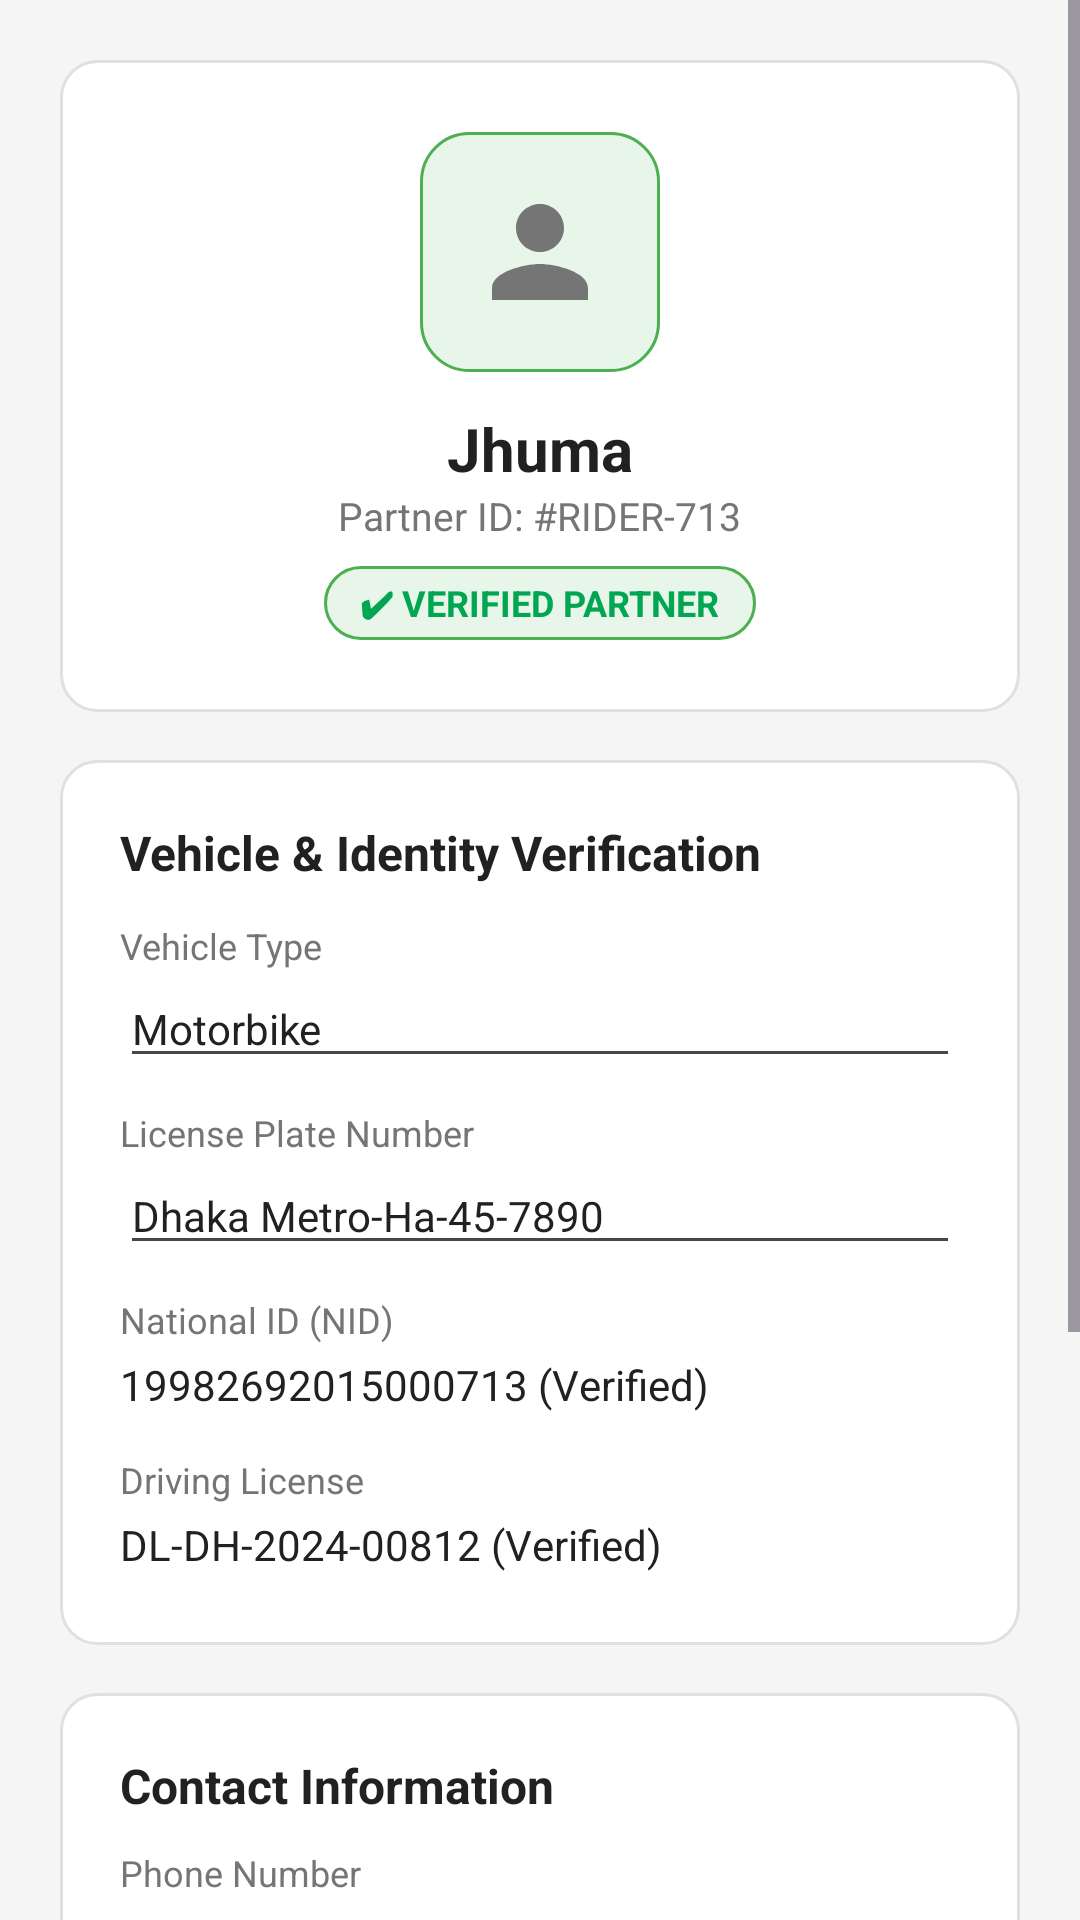

Where icons sit on this 1080px x 1920px app screen, as (x1, y1, x2, y2):
Profile Photo: (420, 132, 660, 372)
